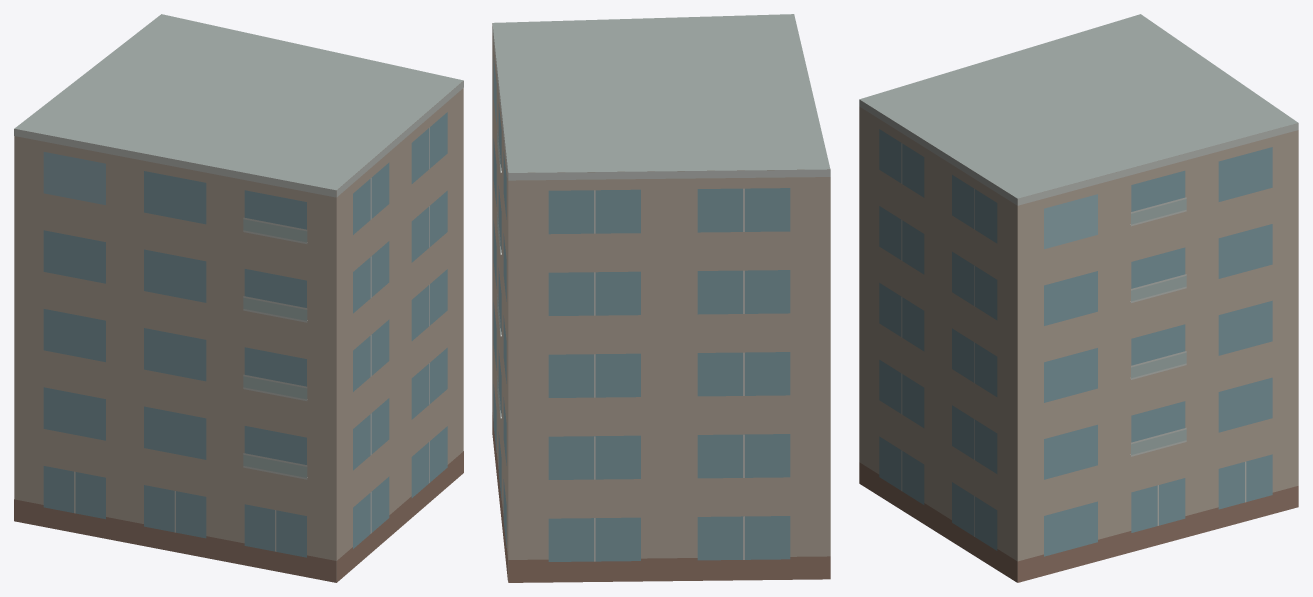
Rendered from survey-upis-32987851.glb.
The picture shows the model from 3 angles, left to right: view 1: azimuth 30°, elevation 25°; view 2: azimuth 150°, elevation 25°; view 3: azimuth 270°, elevation 25°; orthographic projection. The views are drawn at different scales.
Visible parts, largest first — view 1: survey-upis-32987851.tmp; view 2: survey-upis-32987851.tmp; view 3: survey-upis-32987851.tmp.
Part boxes in pixels (left/top/right/bottom): survey-upis-32987851.tmp: left=14, top=14, right=463, bottom=582; survey-upis-32987851.tmp: left=492, top=14, right=830, bottom=582; survey-upis-32987851.tmp: left=859, top=14, right=1298, bottom=582.
Size of the model in its own units: 13.62 by 13.2 by 13.69.
